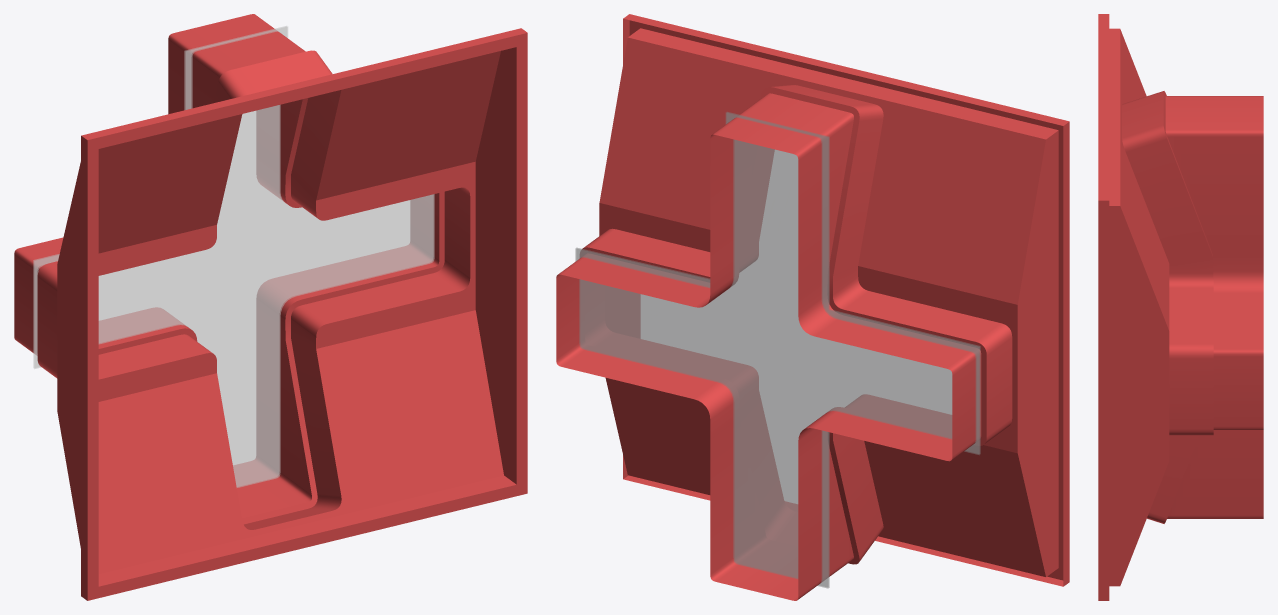
The model's file is Wall_C_4x4m.FBX.
3 views of the same model, side by side, from view 1: azimuth 30°, elevation 25°; view 2: azimuth 150°, elevation 25°; view 3: azimuth 270°, elevation 25° (orthographic). The views are drawn at different scales.
Visible parts, largest first — view 1: Wall_C_4x4m; view 2: Wall_C_4x4m; view 3: Wall_C_4x4m.
Part boxes in pixels (x1,y1,x2,y2): Wall_C_4x4m: [14, 14, 527, 600]; Wall_C_4x4m: [556, 14, 1069, 600]; Wall_C_4x4m: [1098, 14, 1263, 600].
Bounding box in the file's own units: 400 × 400 × 150.
